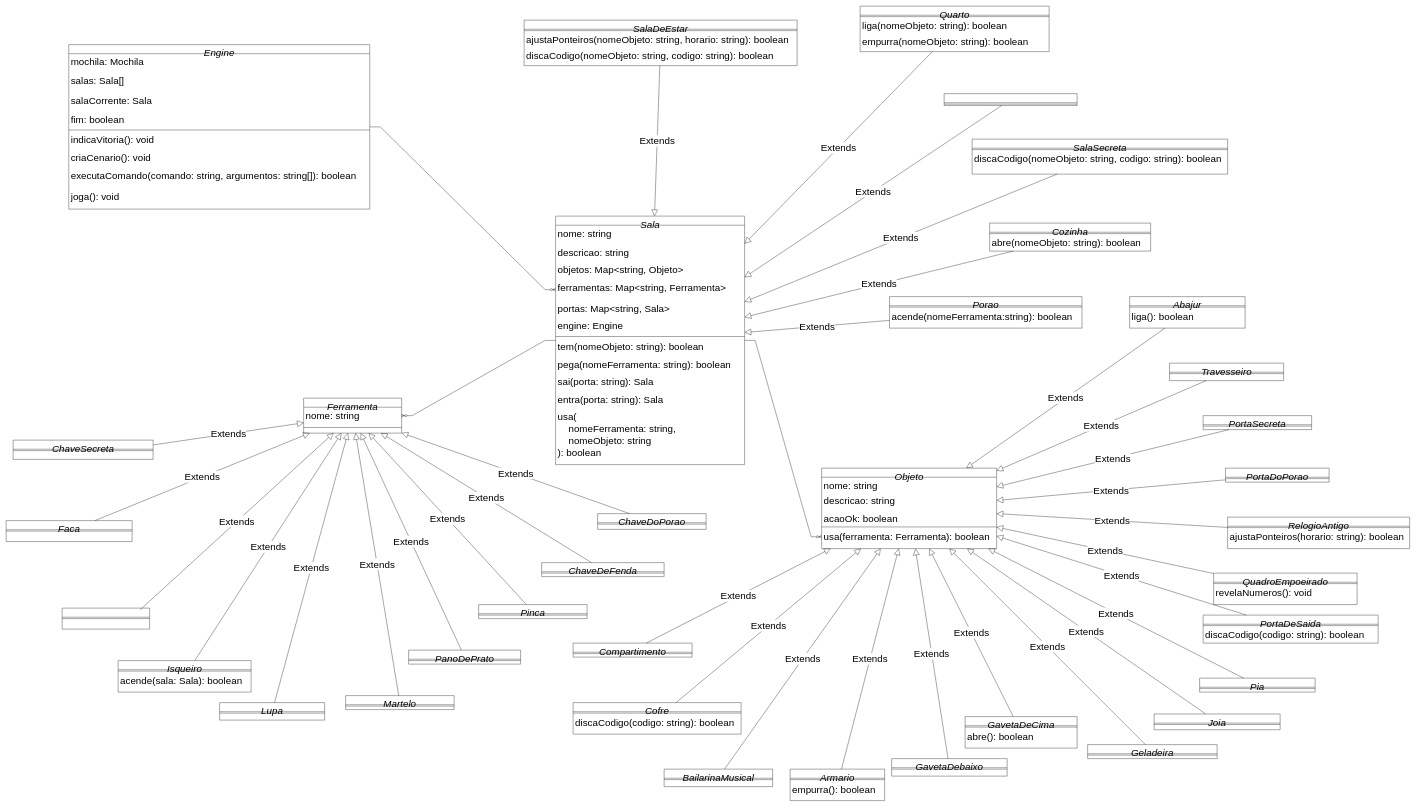
Some shapes in this 1416 by 808 pixel diagram are drawn without their labels. The shapes that lost their labels are listed below. From the top down, each one's centre as x and y in pixels, then its label:
point 1010,99: Banheiro
point 106,618: Grampo
